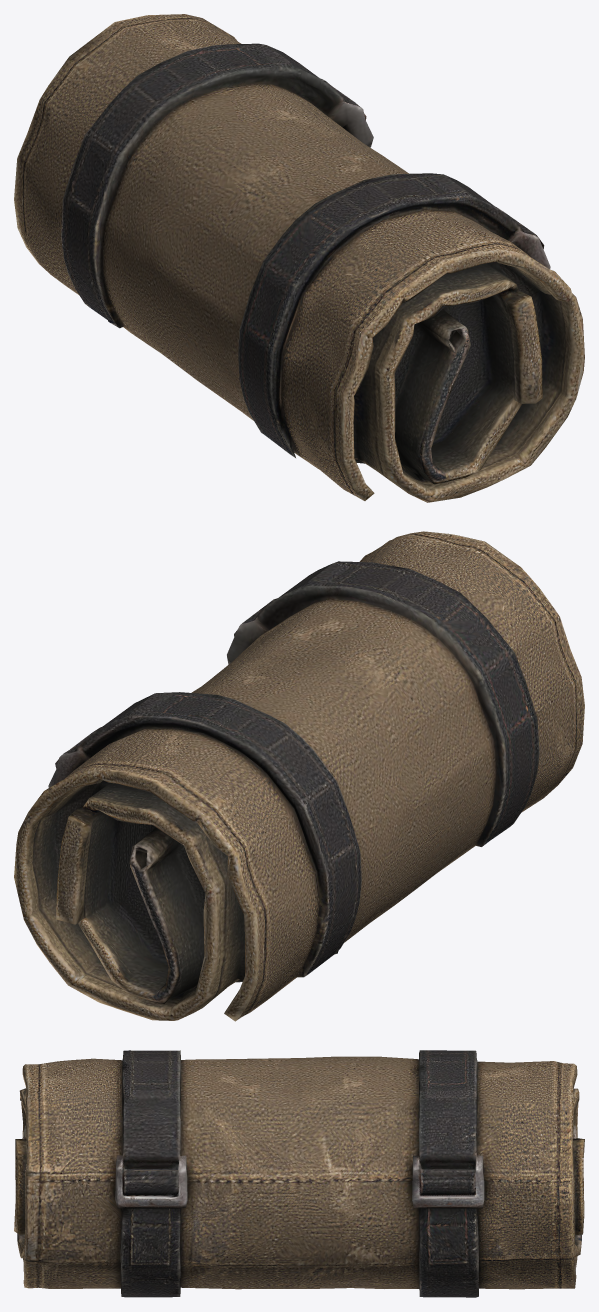
The model's file is PROP-TOOL-ROLL.glb.
The picture shows the model from 3 angles, top to bottom: view 1: azimuth 30°, elevation 25°; view 2: azimuth 150°, elevation 25°; view 3: azimuth 270°, elevation 25°; orthographic projection. The views are drawn at different scales.
Visible parts, largest first — view 1: tripo_node_ad2d5d2a-a635-4a84-8341-be625ac6cae5; view 2: tripo_node_ad2d5d2a-a635-4a84-8341-be625ac6cae5; view 3: tripo_node_ad2d5d2a-a635-4a84-8341-be625ac6cae5.
Part boxes in pixels (bbox=[...]): tripo_node_ad2d5d2a-a635-4a84-8341-be625ac6cae5: bbox=[14, 14, 584, 502]; tripo_node_ad2d5d2a-a635-4a84-8341-be625ac6cae5: bbox=[14, 531, 584, 1021]; tripo_node_ad2d5d2a-a635-4a84-8341-be625ac6cae5: bbox=[14, 1050, 584, 1297].
Size of the model in its own units: 0.4685 by 0.4192 by 1.
Materials: 1 (1 with a texture image).
